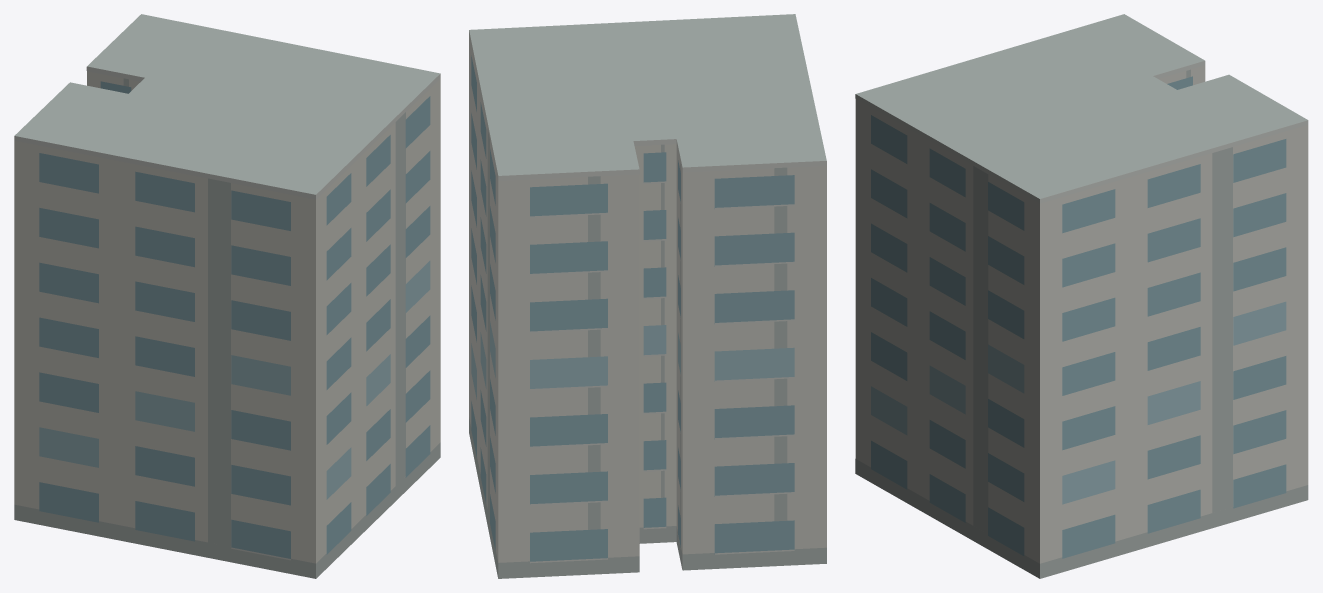
Rendered from survey-upis-32666022.glb.
3 views of the same model, side by side, from view 1: azimuth 30°, elevation 25°; view 2: azimuth 150°, elevation 25°; view 3: azimuth 270°, elevation 25° (orthographic). The views are drawn at different scales.
Visible parts, largest first — view 1: survey-upis-32666022.tmp; view 2: survey-upis-32666022.tmp; view 3: survey-upis-32666022.tmp.
Part boxes in pixels (x1,y1,x2,y2): survey-upis-32666022.tmp: (14, 14, 440, 578); survey-upis-32666022.tmp: (469, 14, 826, 578); survey-upis-32666022.tmp: (855, 14, 1308, 578).
Bounding box in the file's own units: 20.81 × 19.9 × 21.51.
